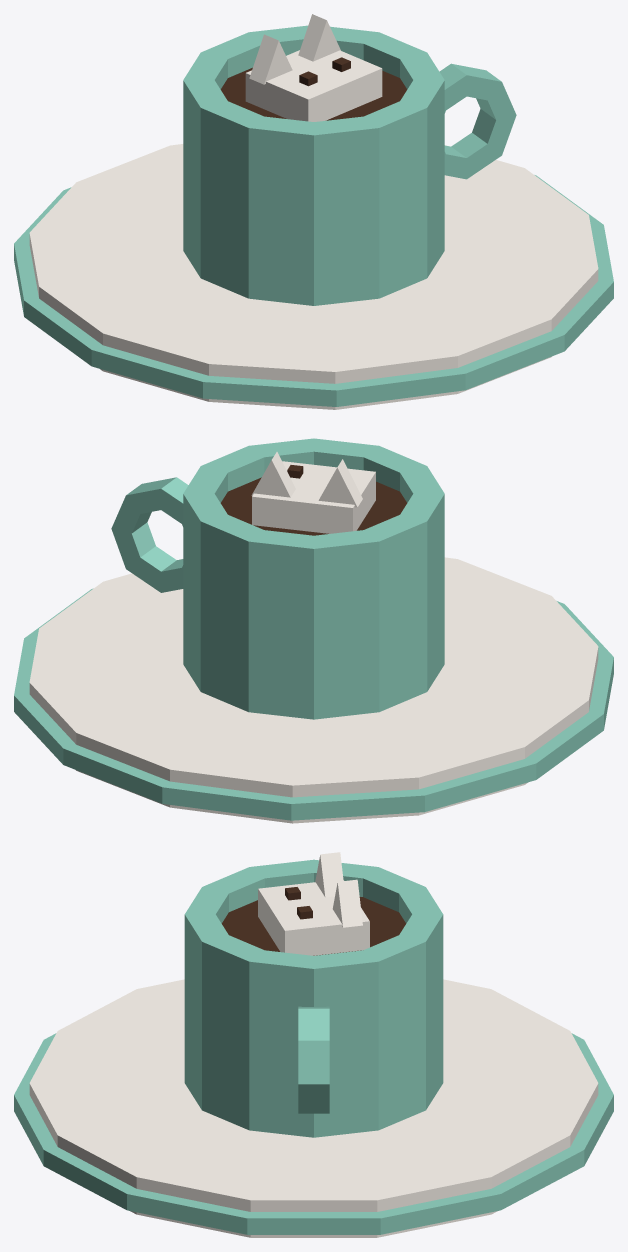
The model's file is CatCafe_Menu_HotCocoa.glb.
The picture shows the model from 3 angles, top to bottom: view 1: azimuth 30°, elevation 25°; view 2: azimuth 150°, elevation 25°; view 3: azimuth 270°, elevation 25°; orthographic projection.
Parts seen in each view (by area): view 1: CatCafe_Menu_HotCocoa_Plate, CatCafe_Menu_HotCocoa; view 2: CatCafe_Menu_HotCocoa_Plate, CatCafe_Menu_HotCocoa; view 3: CatCafe_Menu_HotCocoa_Plate, CatCafe_Menu_HotCocoa.
Boxes of the visible parts, x1=… form: CatCafe_Menu_HotCocoa_Plate: x1=14, y1=144, x2=613, y2=409; CatCafe_Menu_HotCocoa: x1=183, y1=14, x2=516, y2=305; CatCafe_Menu_HotCocoa_Plate: x1=14, y1=557, x2=613, y2=823; CatCafe_Menu_HotCocoa: x1=111, y1=438, x2=444, y2=719; CatCafe_Menu_HotCocoa_Plate: x1=14, y1=979, x2=613, y2=1237; CatCafe_Menu_HotCocoa: x1=184, y1=852, x2=443, y2=1137.
Bounding box in the file's own units: 1.13 × 0.575 × 1.16.
1 material, 1 textured.
